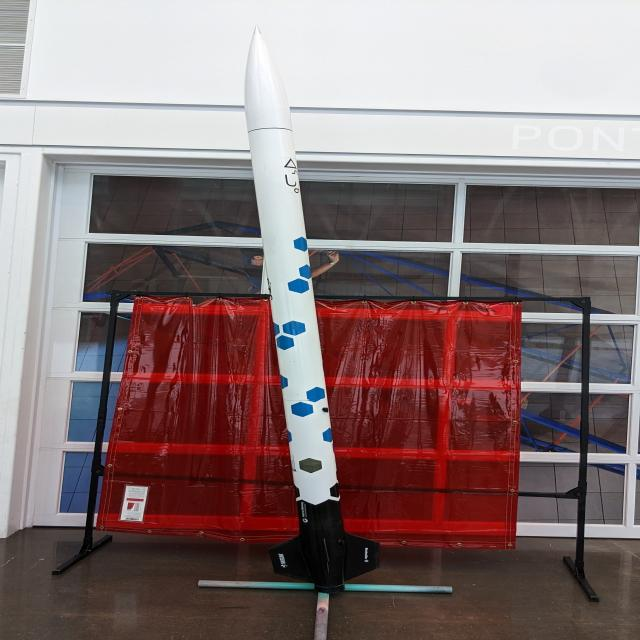Rocket: (243, 24, 380, 593)
